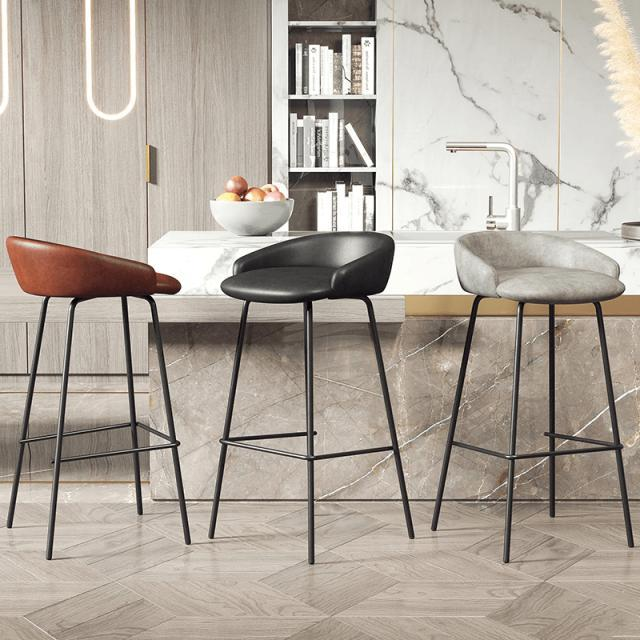chair: (205, 226, 418, 568), (426, 227, 640, 566), (2, 225, 200, 564)
